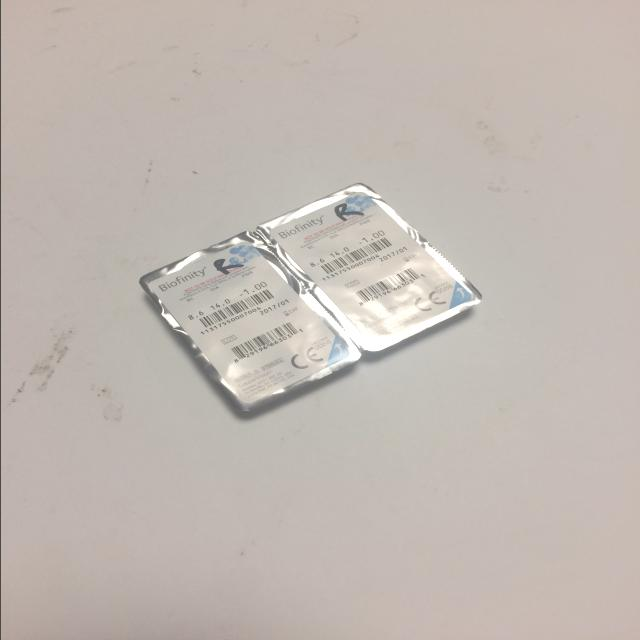Metal: (137, 178, 491, 426)
